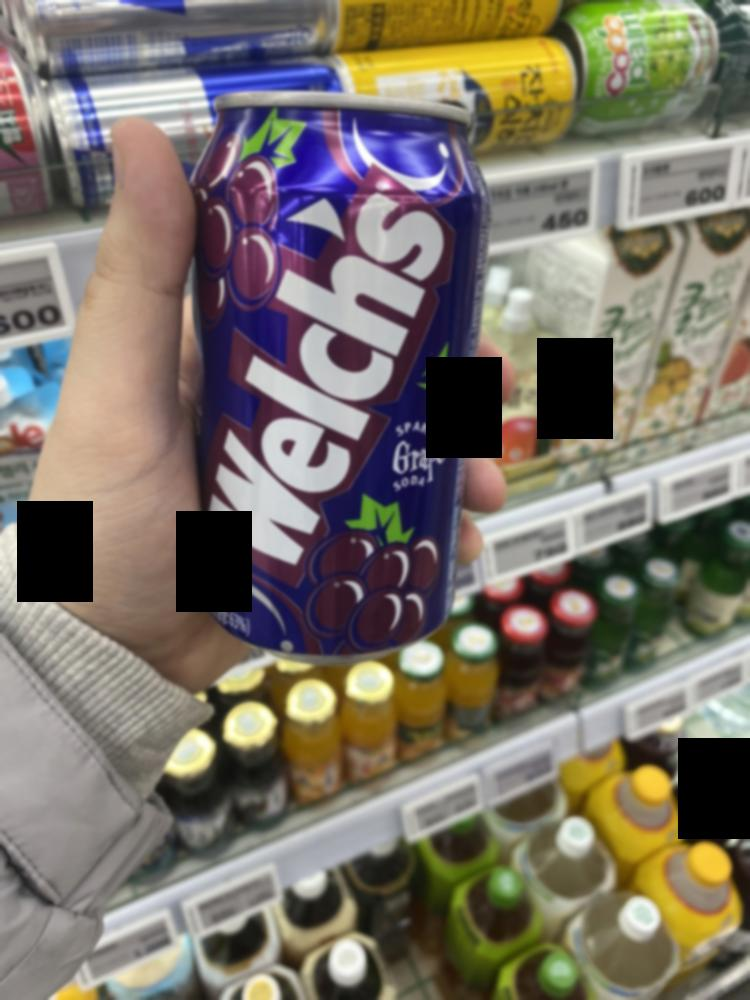welchs_grape: (191, 96, 479, 656)
